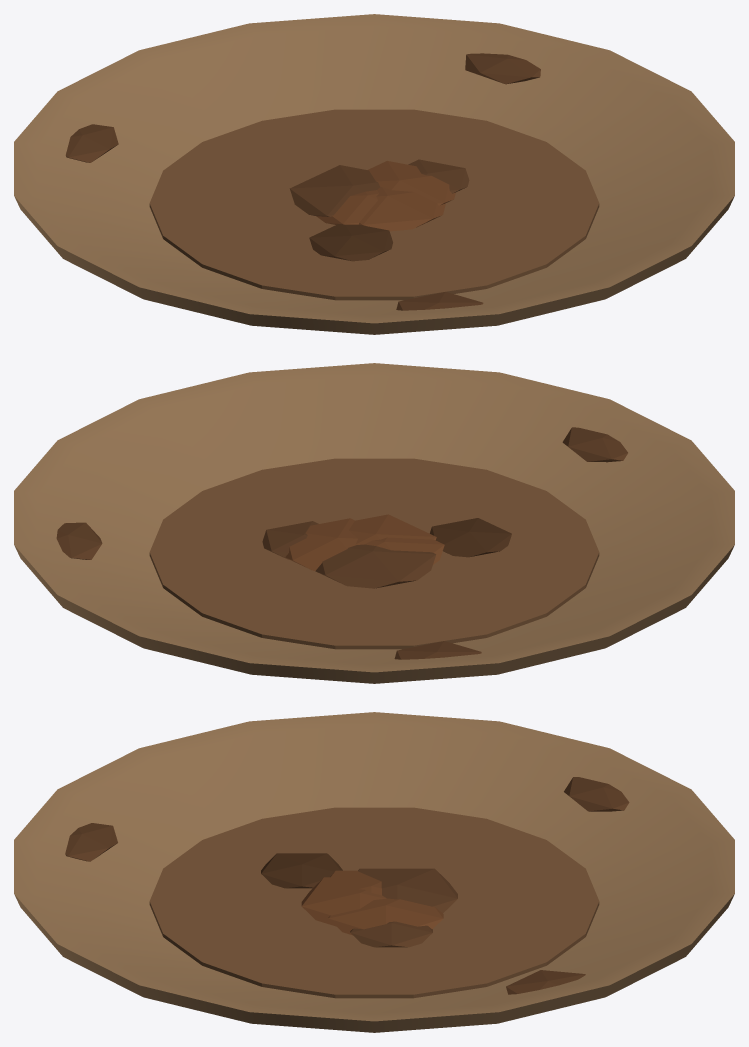
File: plate_dirty.glb
The picture shows the model from 3 angles, top to bottom: view 1: azimuth 30°, elevation 25°; view 2: azimuth 150°, elevation 25°; view 3: azimuth 270°, elevation 25°; orthographic projection.
Parts seen in each view (by area): view 1: plate; view 2: plate; view 3: plate.
Boxes of the visible parts, bbox=[...] form: plate: bbox=[14, 14, 734, 334]; plate: bbox=[14, 363, 734, 683]; plate: bbox=[14, 712, 734, 1032].
Bounding box in the file's own units: 0.56 × 0.062 × 0.5515.
